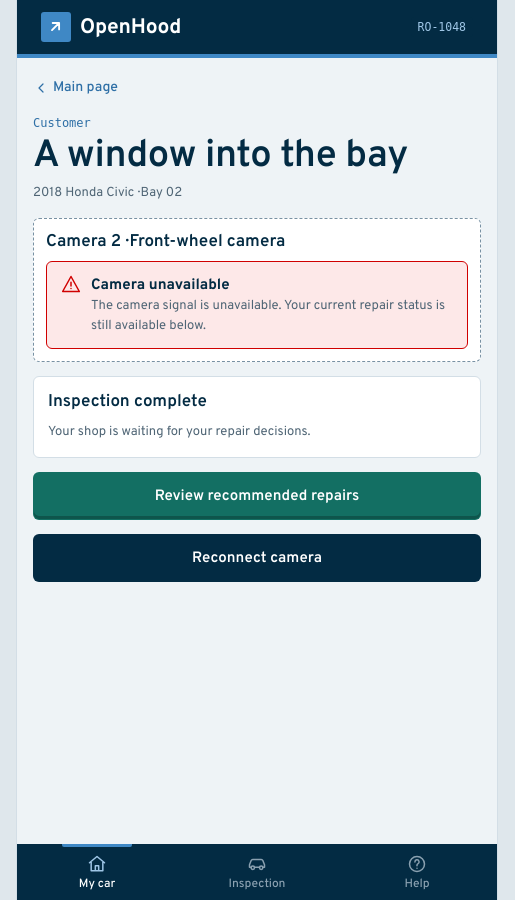
it: a lost camera keeps repair status visible and retries the same angle
The image size is (515, 900).
Earlier steps of the test are not shown.
Later steps or results of the test are not shown.
expect the message shows "Camera unavailable": met, box x1=91 y1=276 x2=230 y2=295
expect the heading "Inspection complete" is shown: met, box x1=48 y1=391 x2=207 y2=413
Click the button "Reconnect camera" at (257, 558), box x1=33 y1=534 x2=481 y2=582
Wait 650 ms
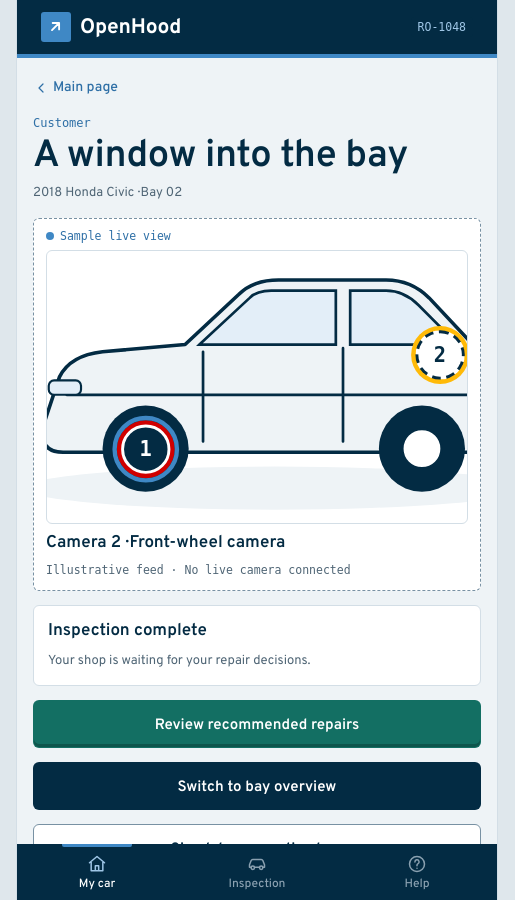
expect the text "Camera 2 · Front-wheel camera" is shown: met, box x1=46 y1=532 x2=285 y2=554
expect the button "Switch to bay overview" is shown: met, box x1=33 y1=762 x2=481 y2=810
expect the text "Camera unavailable" is gone: met
